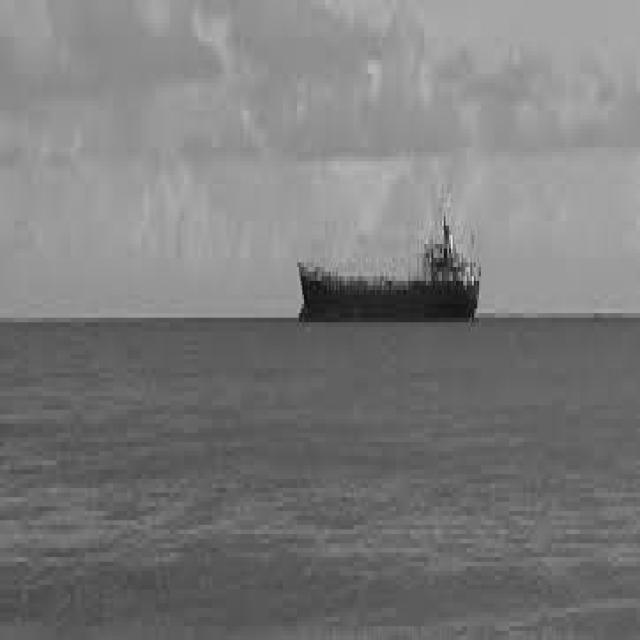cargoship: (292, 202, 485, 316)
